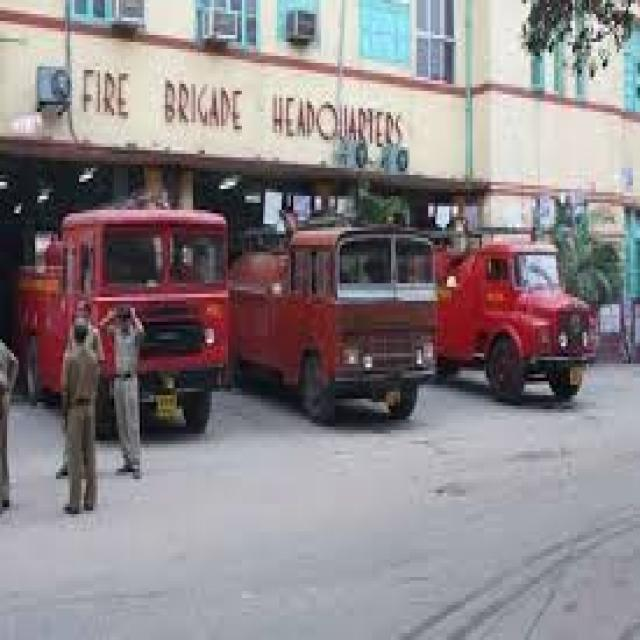Fire_brigade: (0, 192, 242, 469), (219, 182, 454, 437), (419, 192, 607, 430)
